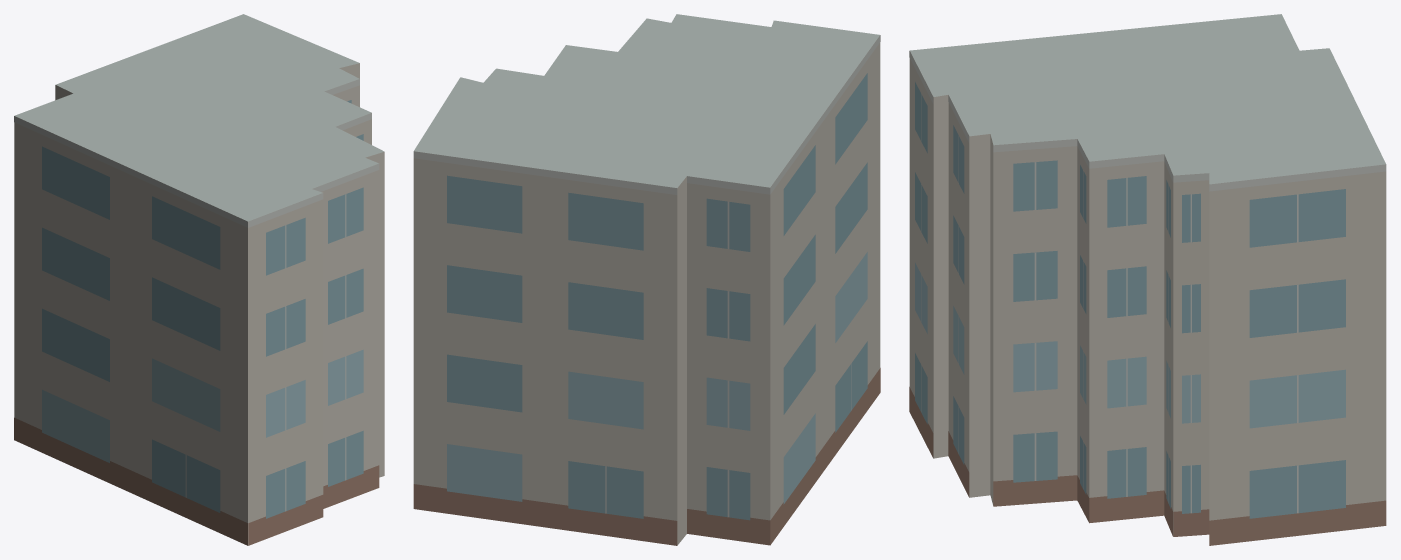
File: survey-upis-32562318.glb
3 views of the same model, side by side, from view 1: azimuth 30°, elevation 25°; view 2: azimuth 150°, elevation 25°; view 3: azimuth 270°, elevation 25° (orthographic). The views are drawn at different scales.
Parts seen in each view (by area): view 1: survey-upis-32562318.tmp; view 2: survey-upis-32562318.tmp; view 3: survey-upis-32562318.tmp.
Part boxes in pixels (x1,y1,x2,y2): survey-upis-32562318.tmp: (14,14,384,545); survey-upis-32562318.tmp: (413,14,880,545); survey-upis-32562318.tmp: (909,14,1386,545).
Bounding box in the file's own units: 12.59 × 12.43 × 14.87.
